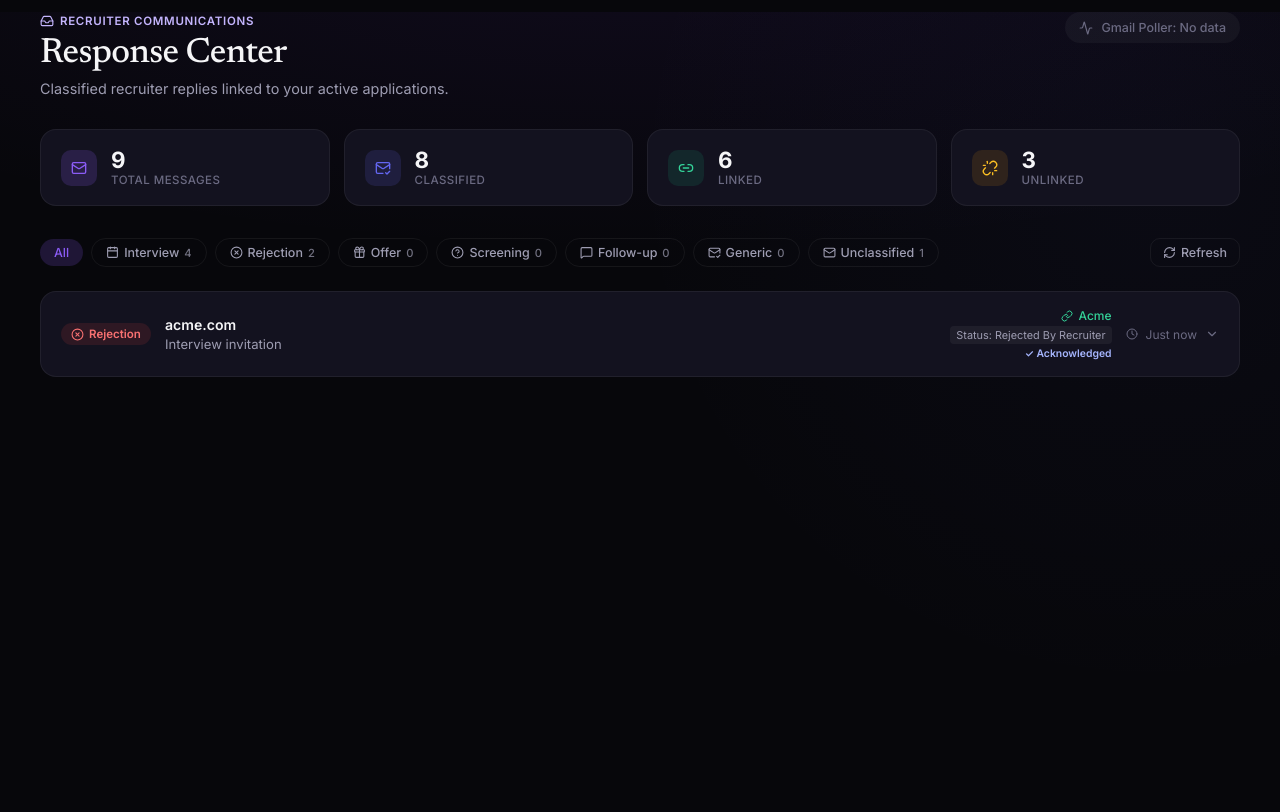
Test: ResponseCenterPlaceholder › shows the acknowledged state (no action buttons) for an already-acknowledged message
Click the text "acme.com".
click(201, 325)  # box 165,316 -> 236,333
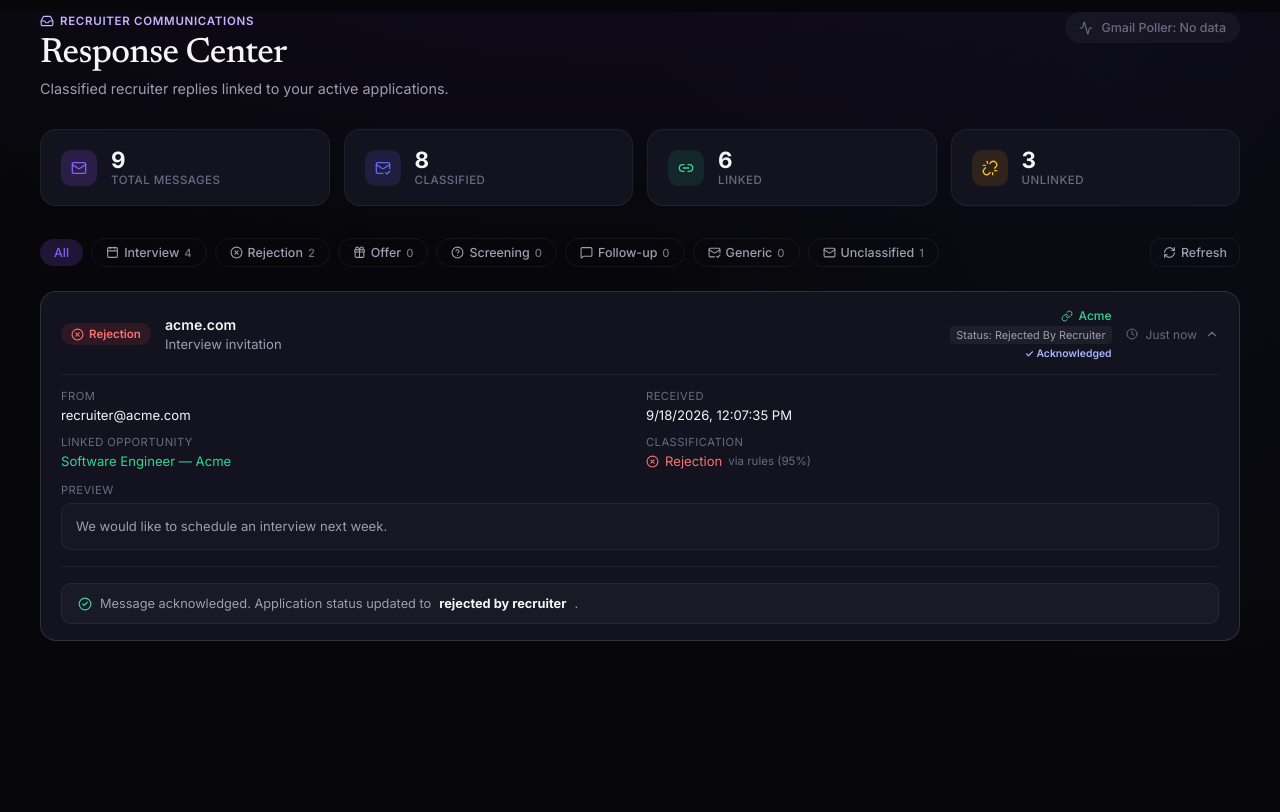
Expected: the text "Message acknowledged. Application status updated to" is shown, 100,596 -> 431,611
Expected: the text "rejected by recruiter" is shown, 439,596 -> 566,611
